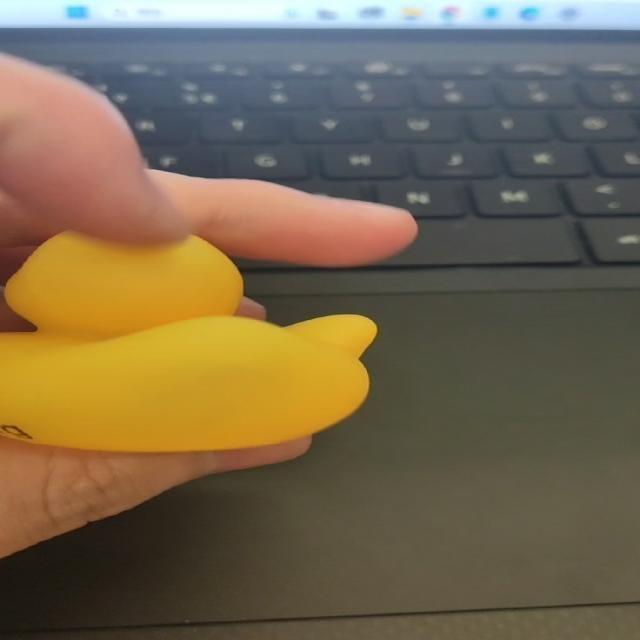rubber-duck: (0, 231, 374, 450)
